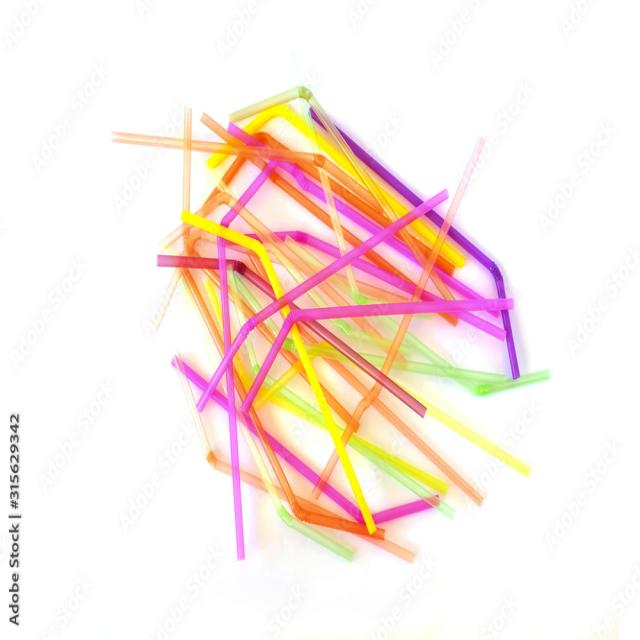plastic: (182, 198, 283, 290)
